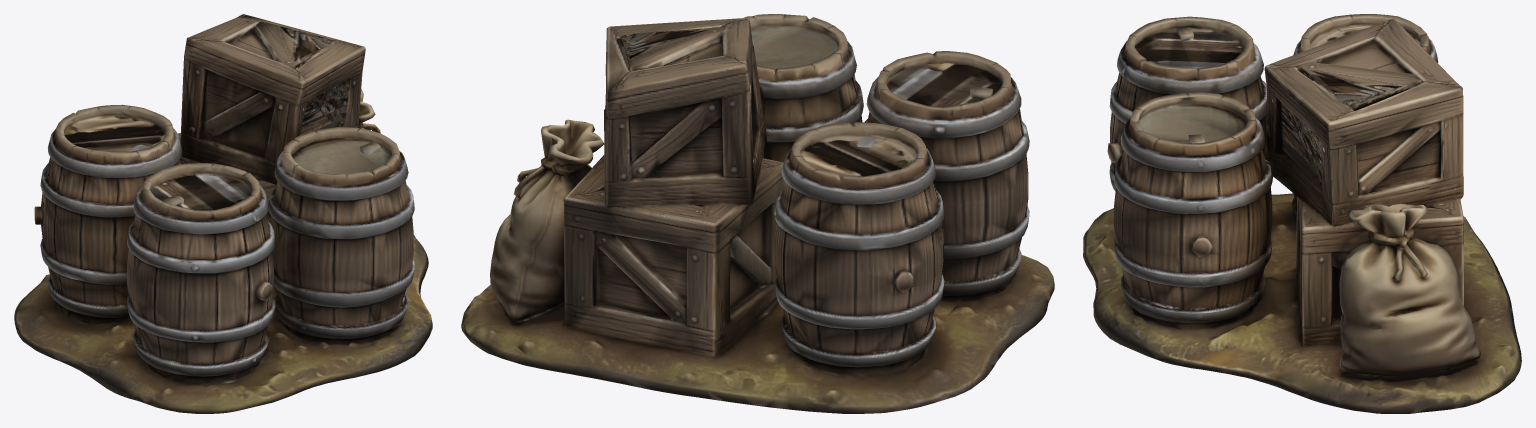
3 views of the same model, side by side, from view 1: azimuth 30°, elevation 25°; view 2: azimuth 150°, elevation 25°; view 3: azimuth 270°, elevation 25° (orthographic). The views are drawn at different scales.
Visible parts, largest first — view 1: repaired; view 2: repaired; view 3: repaired.
Part boxes in pixels (x1,y1,x2,y2): repaired: [14, 14, 432, 413]; repaired: [461, 14, 1054, 413]; repaired: [1083, 14, 1521, 413].
Bounding box in the file's own units: 0.9951 × 0.5995 × 0.8602.
1 material, 1 textured.
